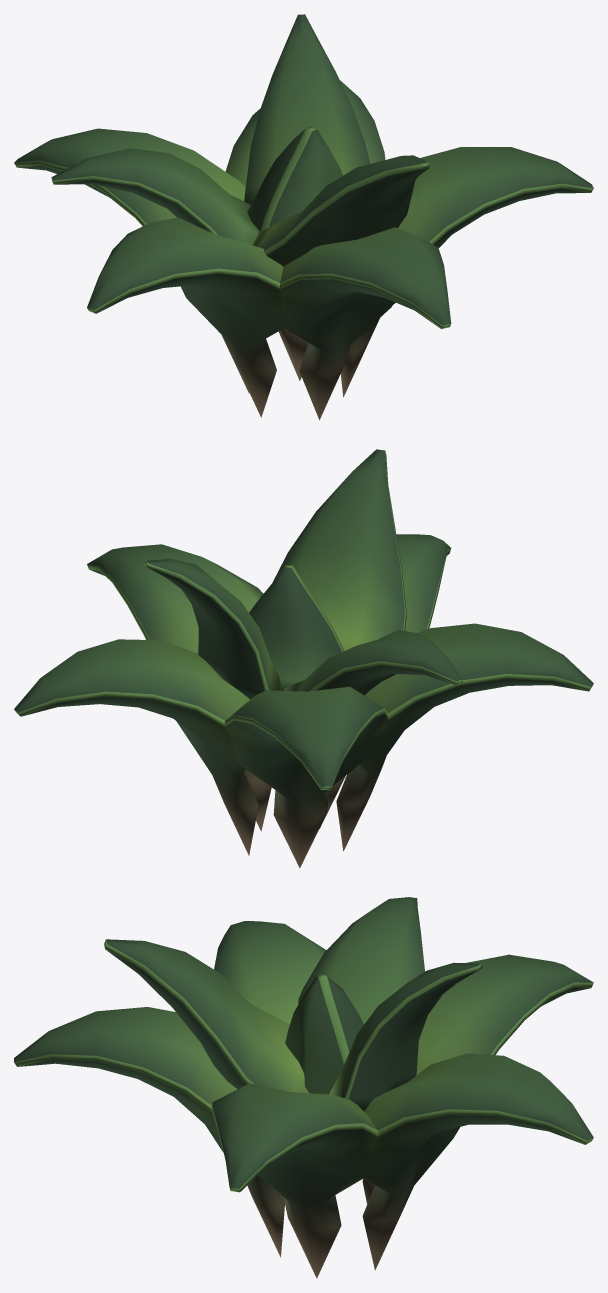
File: plants-cacti-succulents-aloe_v3.glb
3 views of the same model, one above another, from view 1: azimuth 30°, elevation 25°; view 2: azimuth 150°, elevation 25°; view 3: azimuth 270°, elevation 25° (orthographic). The views are drawn at different scales.
Visible parts, largest first — view 1: Aloe_v3; view 2: Aloe_v3; view 3: Aloe_v3.
Part boxes in pixels (left/top/right/bottom): Aloe_v3: left=14, top=14, right=593, bottom=420; Aloe_v3: left=14, top=449, right=593, bottom=868; Aloe_v3: left=14, top=897, right=593, bottom=1278.
Bounding box in the file's own units: 0.3 × 0.1805 × 0.2853.
